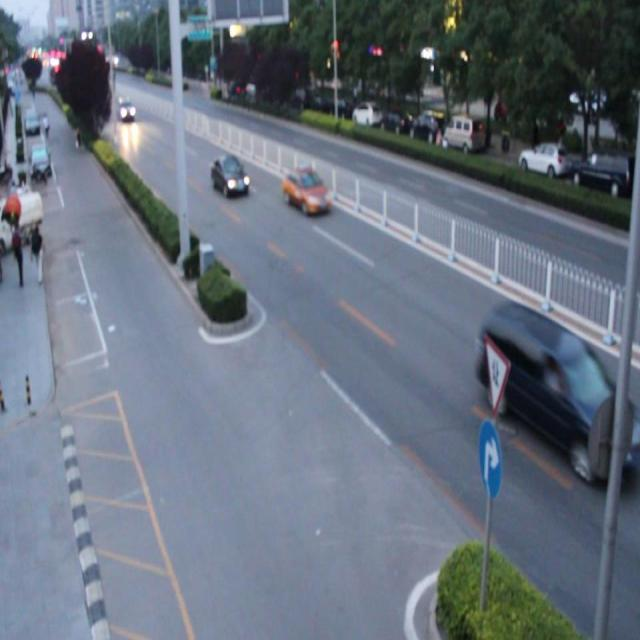car: (282, 167, 332, 217), (211, 152, 249, 198)
truck: (478, 300, 616, 480)
